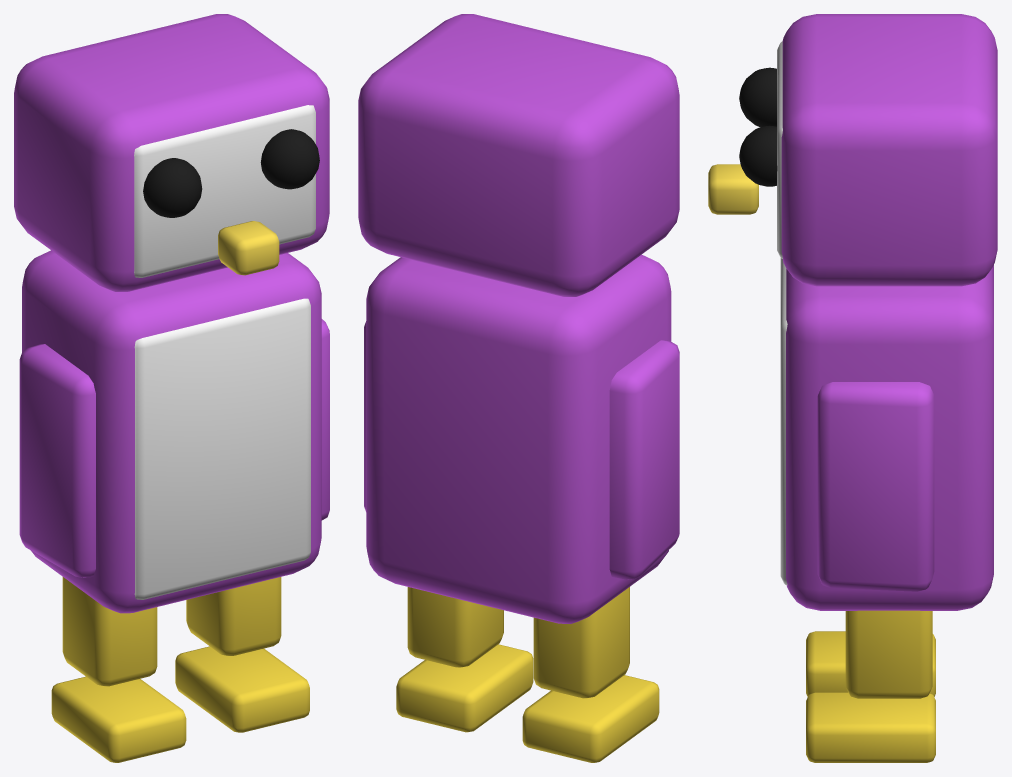
File: Penguin_Purple.glb
3 views of the same model, side by side, from view 1: azimuth 30°, elevation 25°; view 2: azimuth 150°, elevation 25°; view 3: azimuth 270°, elevation 25° (orthographic).
Parts seen in each view (by area): view 1: Penguin_Purple; view 2: Penguin_Purple; view 3: Penguin_Purple.
Part boxes in pixels (x1,y1,x2,y2): Penguin_Purple: (14, 14, 329, 762); Penguin_Purple: (358, 14, 679, 762); Penguin_Purple: (708, 14, 997, 762).
Bounding box in the file's own units: 0.8797 × 2 × 0.8.
